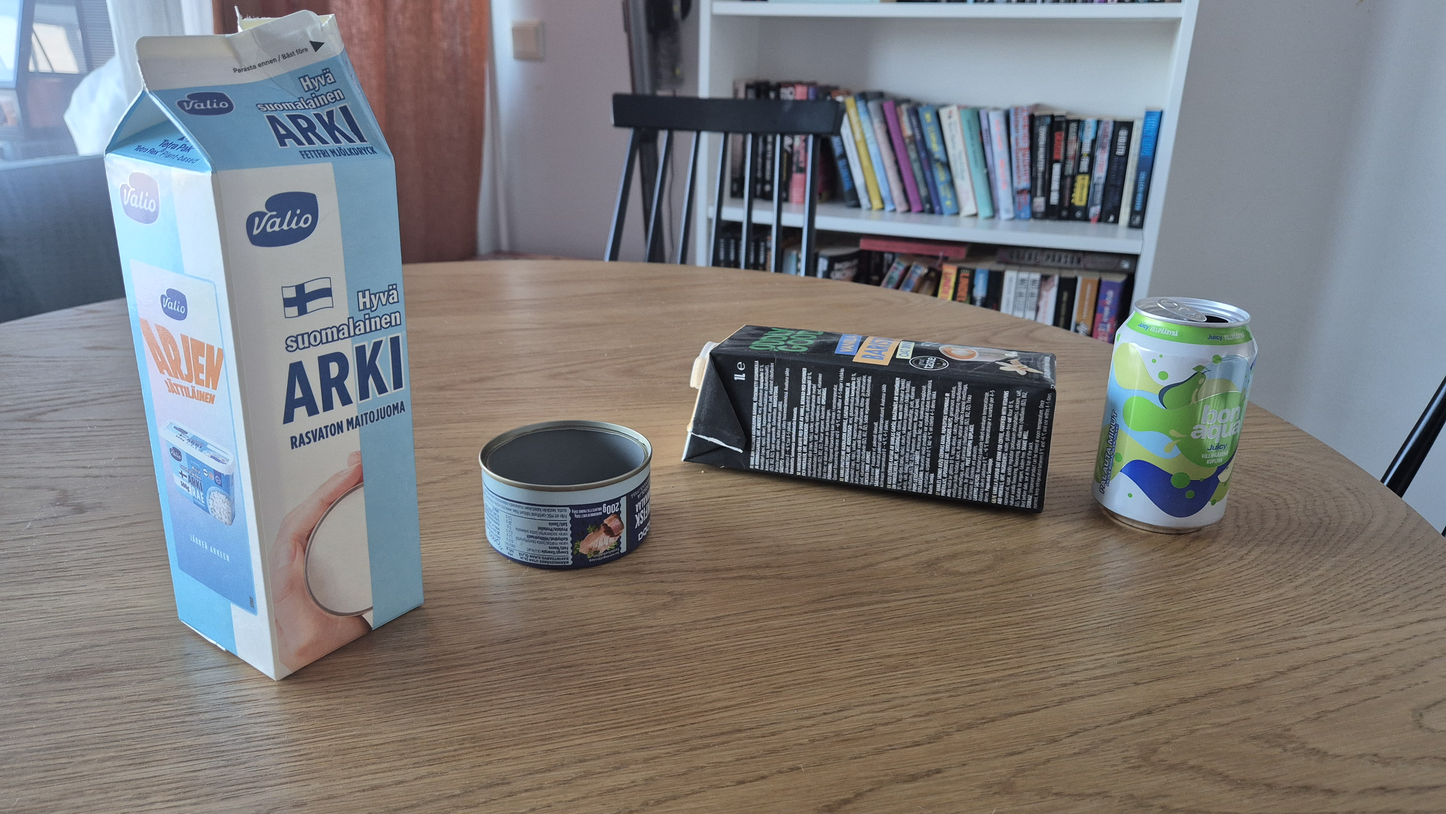Dryckeskartong: (103, 7, 424, 682), (680, 325, 1057, 514)
Konservburk: (479, 421, 652, 570)
Pantburk: (1091, 296, 1259, 534)
